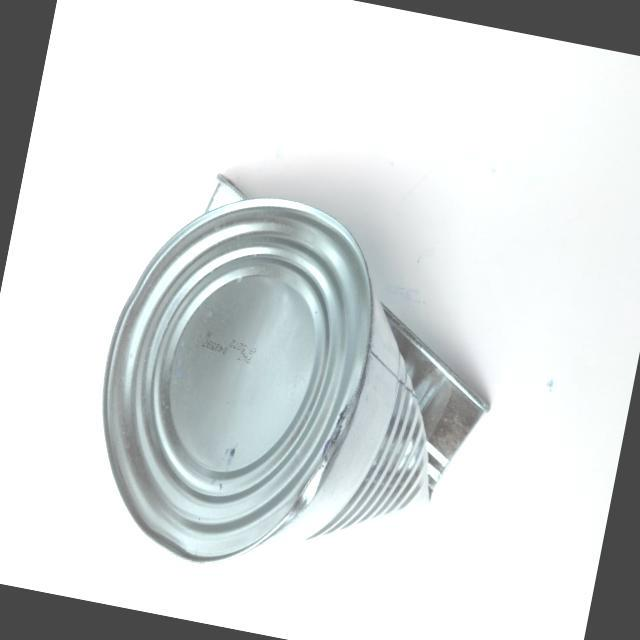metal: (59, 146, 529, 635)
